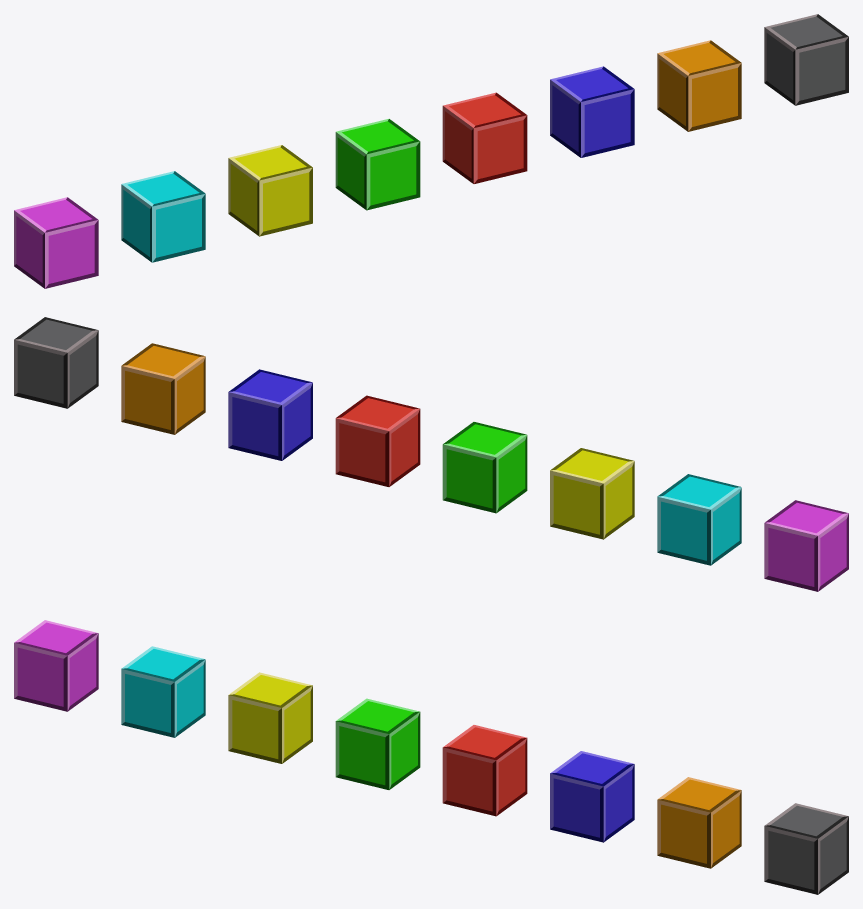
Rendered from single_mino.glb.
3 views of the same model, one above another, from view 1: azimuth 30°, elevation 25°; view 2: azimuth 150°, elevation 25°; view 3: azimuth 330°, elevation 25° (orthographic).
Visible parts, largest first — view 1: Cube.003, Cube.004, Cube.001, Cube.006, Cube, Cube.007, Cube.002, Cube.005; view 2: Cube.003, Cube.004, Cube.001, Cube.006, Cube, Cube.007, Cube.002, Cube.005; view 3: Cube.003, Cube.004, Cube.001, Cube.006, Cube, Cube.007, Cube.002, Cube.005.
Part boxes in pixels (x1=…): Cube.003: x1=335, y1=119, x2=420, y2=210; Cube.004: x1=442, y1=92, x2=527, y2=183; Cube.001: x1=121, y1=171, x2=205, y2=262; Cube.006: x1=657, y1=40, x2=741, y2=131; Cube: x1=14, y1=197, x2=98, y2=288; Cube.007: x1=764, y1=14, x2=848, y2=105; Cube.002: x1=228, y1=145, x2=312, y2=236; Cube.005: x1=550, y1=66, x2=634, y2=157; Cube.003: x1=442, y1=422, x2=527, y2=513; Cube.004: x1=335, y1=395, x2=420, y2=486; Cube.001: x1=657, y1=474, x2=741, y2=565; Cube.006: x1=121, y1=343, x2=205, y2=434; Cube: x1=764, y1=500, x2=848, y2=591; Cube.007: x1=14, y1=317, x2=98, y2=408; Cube.002: x1=550, y1=448, x2=634, y2=539; Cube.005: x1=228, y1=369, x2=312, y2=460; Cube.003: x1=335, y1=698, x2=420, y2=789; Cube.004: x1=442, y1=725, x2=527, y2=816; Cube.001: x1=121, y1=646, x2=205, y2=737; Cube.006: x1=657, y1=777, x2=741, y2=868; Cube: x1=14, y1=620, x2=98, y2=711; Cube.007: x1=764, y1=803, x2=848, y2=894; Cube.002: x1=228, y1=672, x2=312, y2=763; Cube.005: x1=550, y1=751, x2=634, y2=842.
Bounding box in the file's own units: 15 × 1 × 1.
